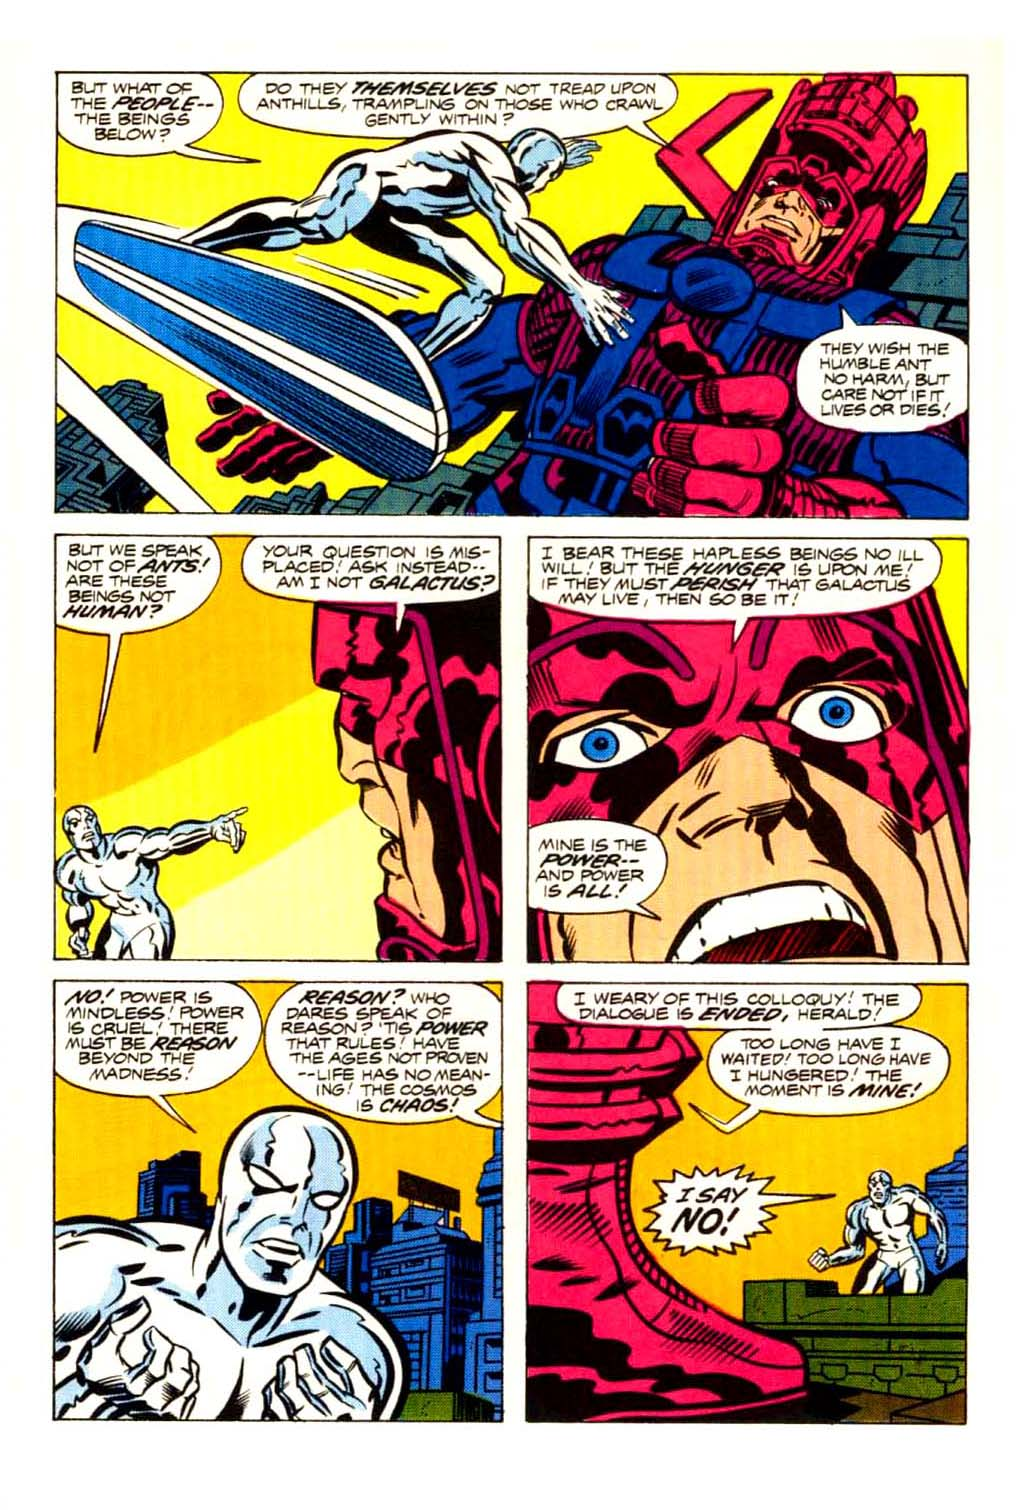Baloon: (267, 978, 499, 1139), (529, 541, 949, 625), (239, 69, 683, 141), (53, 978, 264, 1106), (789, 320, 967, 441), (709, 1029, 950, 1118), (246, 538, 501, 620), (55, 536, 225, 652), (560, 980, 915, 1032), (648, 1157, 821, 1259), (53, 73, 241, 166), (529, 820, 667, 927)
Vignetta: (57, 69, 969, 518), (53, 980, 506, 1420), (525, 980, 967, 1429), (55, 532, 506, 966), (525, 538, 967, 962)
